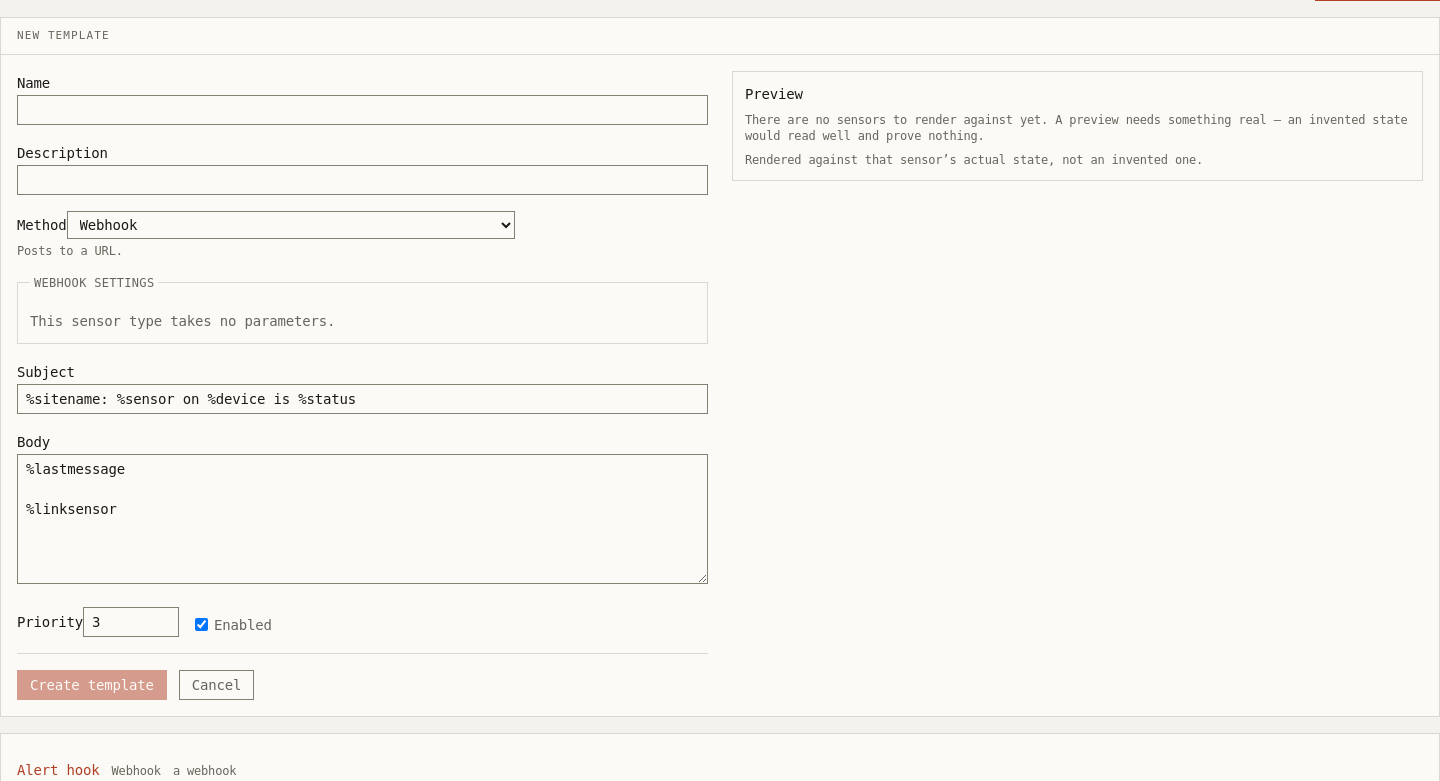
it: an accepted template save (U-69) › says a new one was created, and puts focus on New template
Check: the heading "New template" is shown, box [17, 28, 110, 44]
Type "Pager" into the field labelled "Name".
click(362, 110); type("Pager")  # box [17, 95, 708, 125]
(page scrolled)
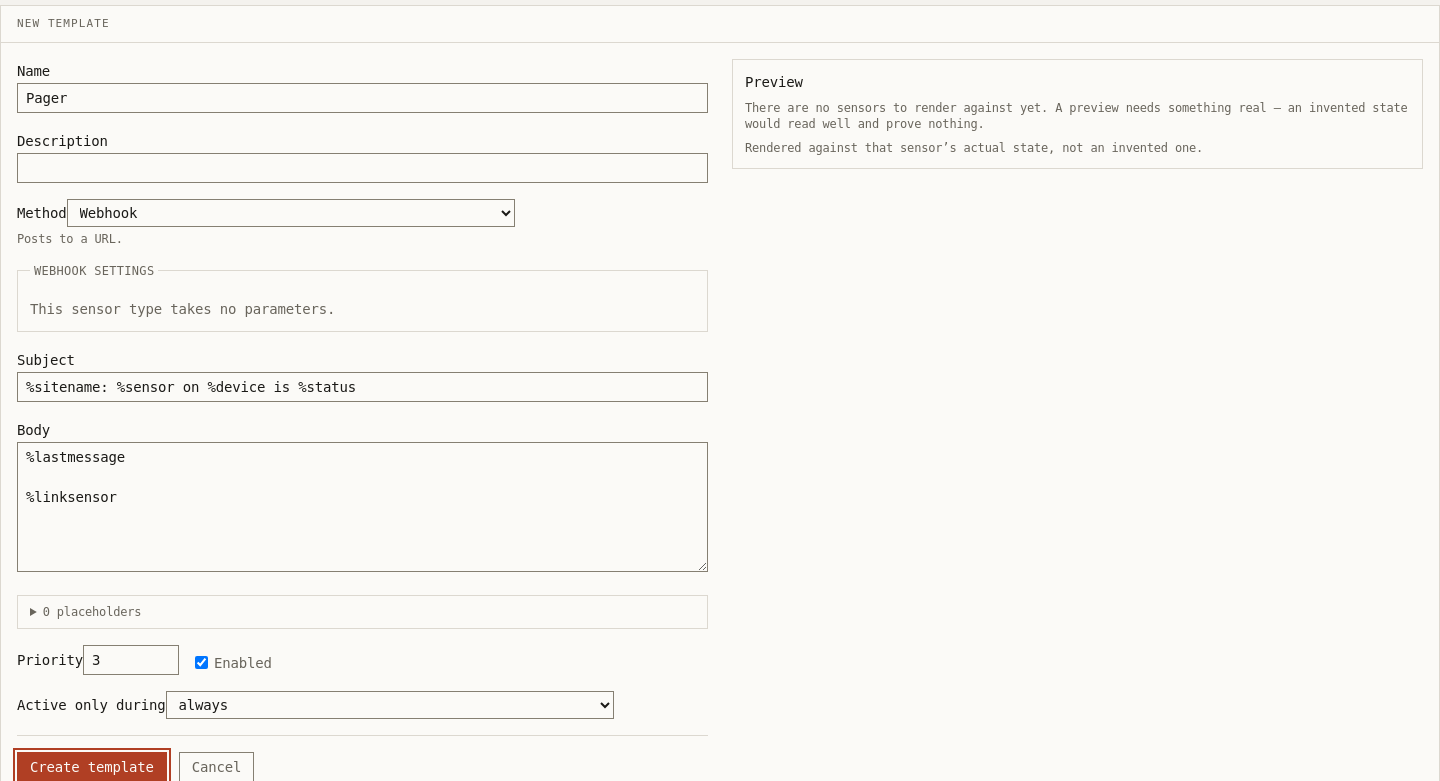
Click the button "Create template".
click(92, 767)  # box [17, 752, 167, 780]
(page scrolled)
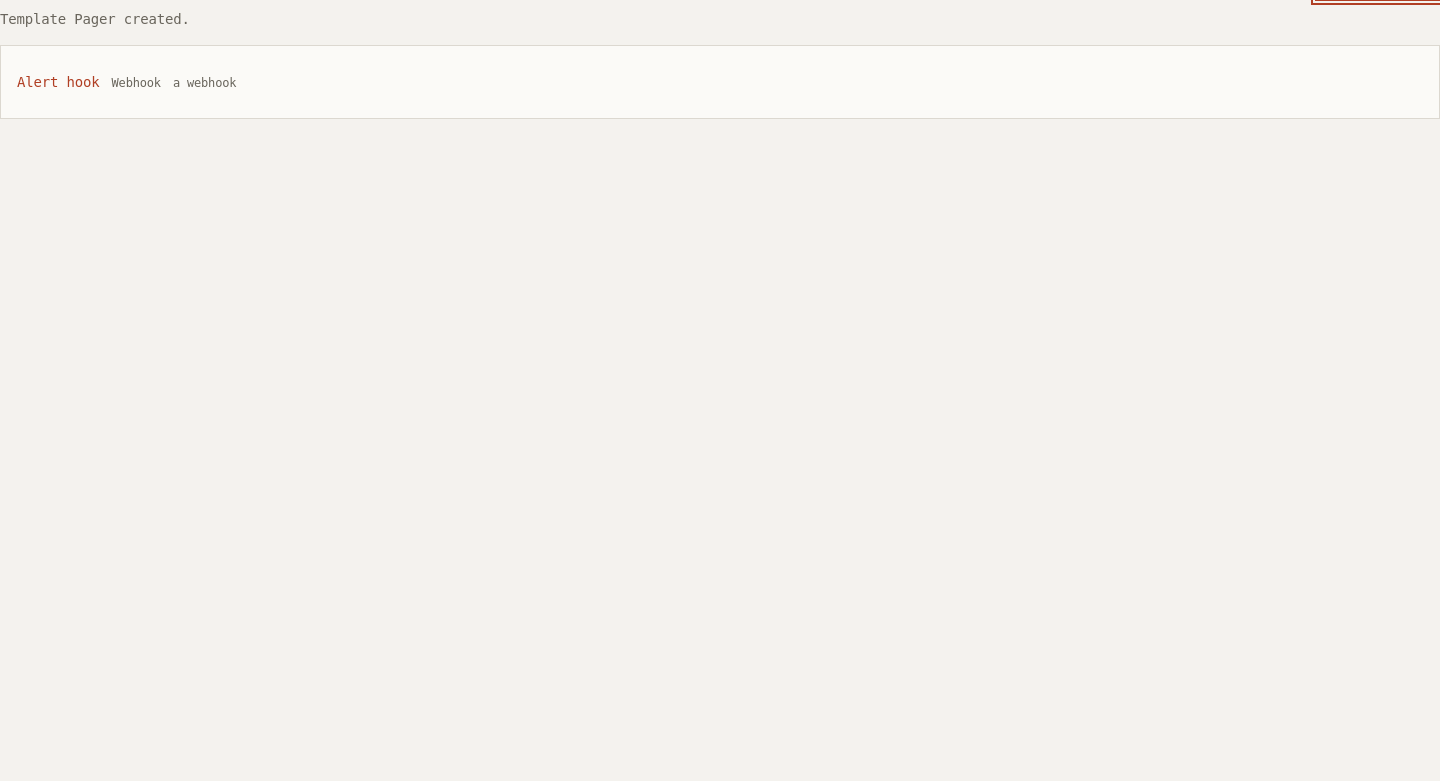
Check: the message "Template Pager created." is shown, box [0, 11, 190, 27]
